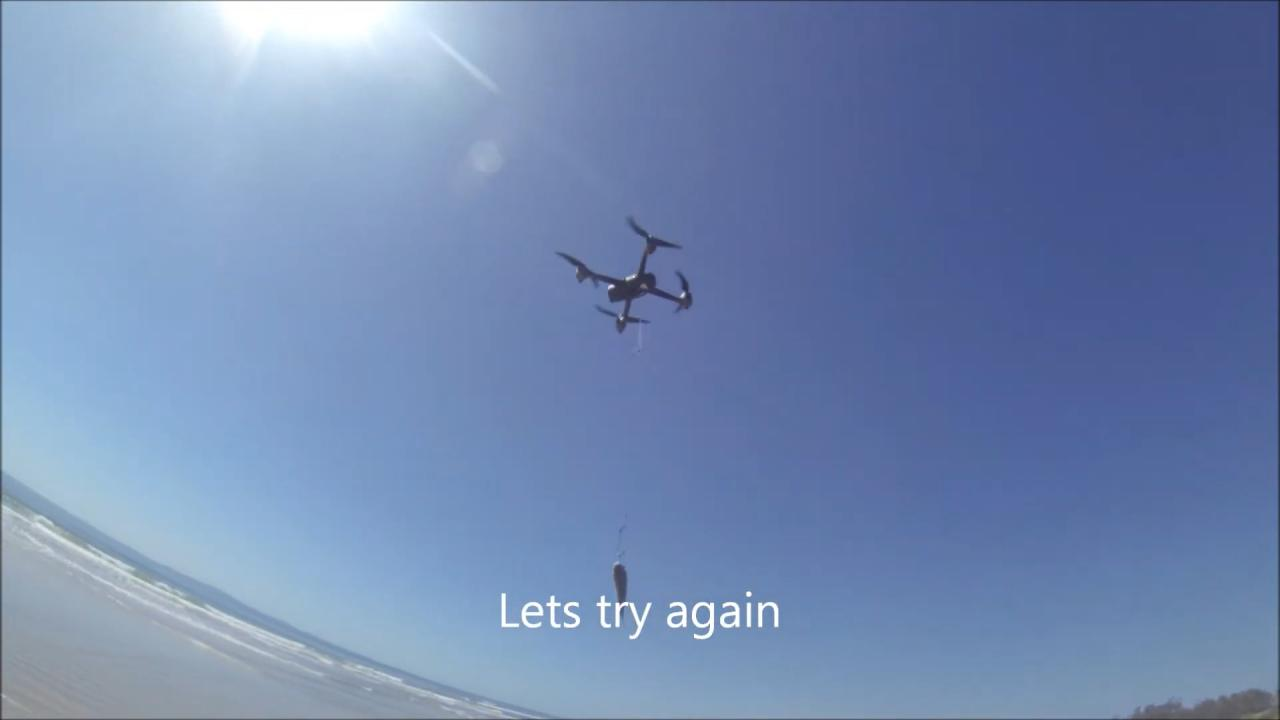Drone: (547, 207, 711, 344)
